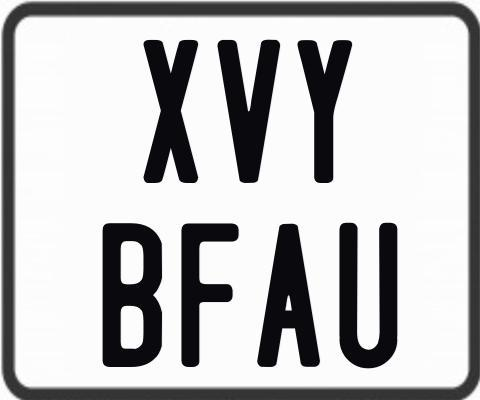A: (257, 222, 321, 365)
B: (102, 222, 162, 370)
F: (178, 221, 240, 366)
U: (336, 222, 398, 369)
V: (215, 39, 278, 186)
X: (142, 40, 201, 187)
Y: (296, 40, 355, 183)
